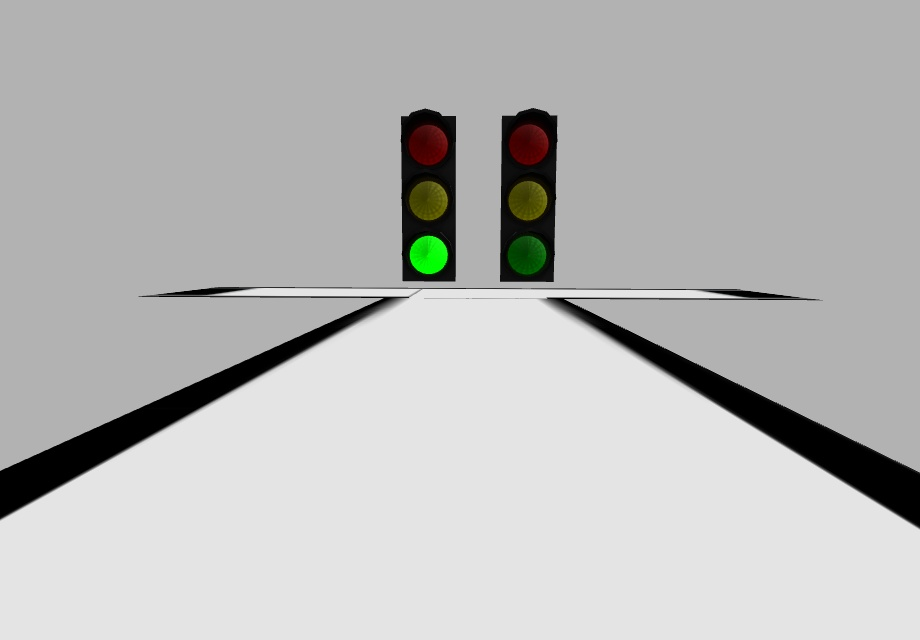green_off: (508, 236, 545, 277)
green_on: (410, 234, 449, 275)
